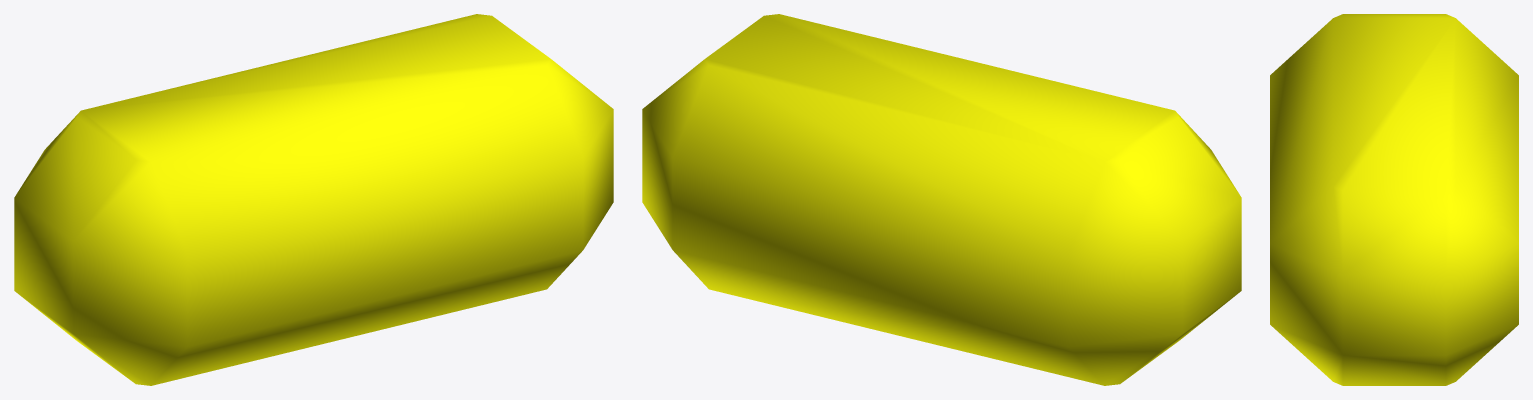
Rendered from finger_proximal.bbox.gltf.
3 renders of one model, left to right at view 1: azimuth 30°, elevation 25°; view 2: azimuth 150°, elevation 25°; view 3: azimuth 270°, elevation 25°, orthographic. The views are drawn at different scales.
Visible parts, largest first — view 1: finger_proximal.bbox; view 2: finger_proximal.bbox; view 3: finger_proximal.bbox.
Part boxes in pixels (x1,y1,x2,y2): finger_proximal.bbox: (14, 14, 613, 385); finger_proximal.bbox: (642, 14, 1241, 385); finger_proximal.bbox: (1270, 14, 1518, 385).
Bounding box in the file's own units: 0.0579 × 0.0229 × 0.0265.
